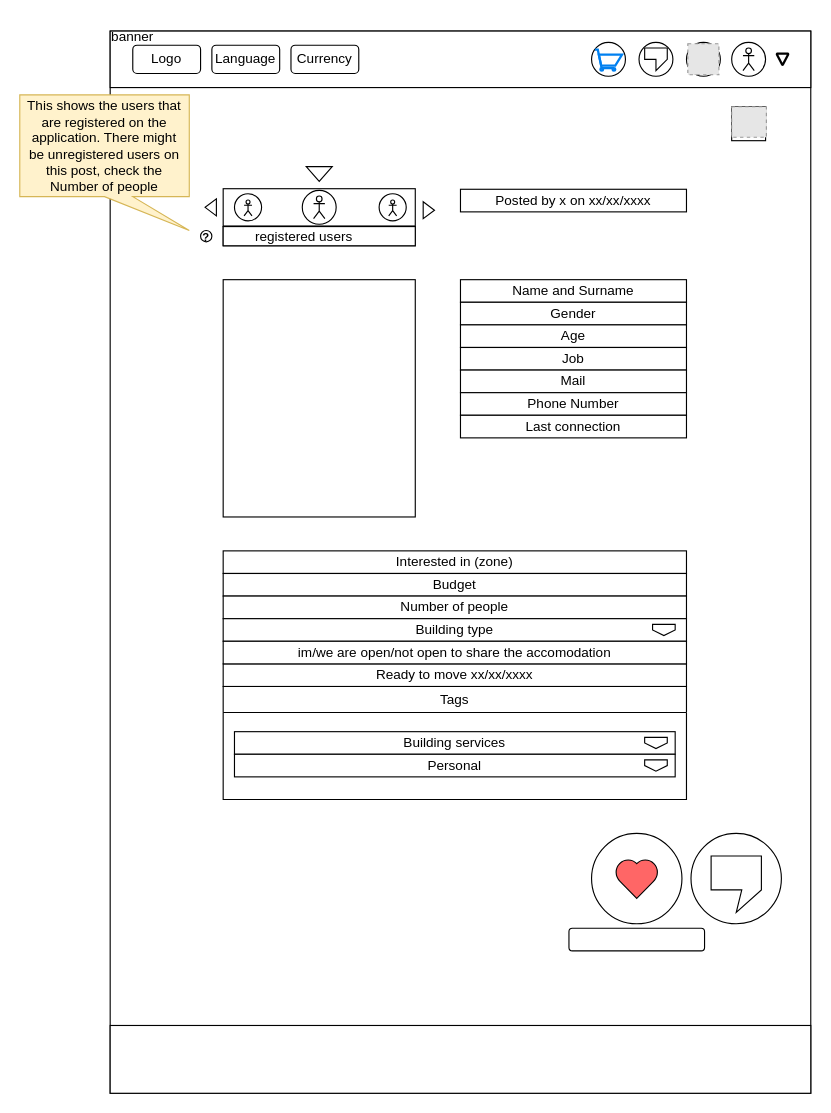
This 831x1113 diagram has some shape labels left out. Grey dashed boxes stand in for pictures. Each missing label, with the centre of its shape:
14 users liked this post: point 636,939
footpage: point 460,1058
Linked people Images: point 318,398
